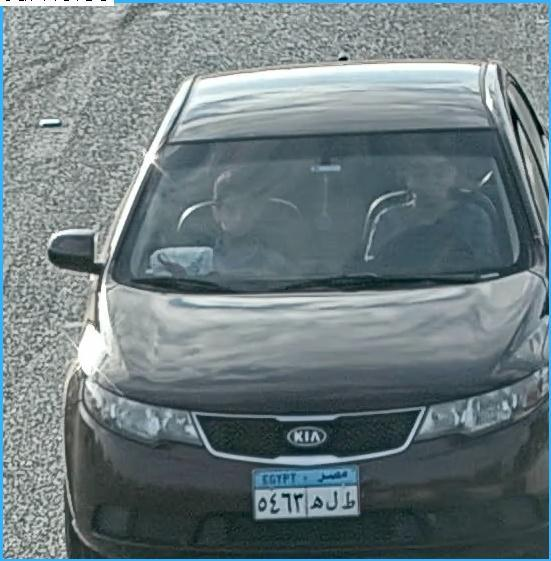windshield: (99, 126, 536, 283)
